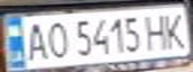1: (109, 15, 127, 54)
4: (90, 16, 112, 56)
5: (69, 16, 93, 57), (121, 12, 145, 53)
A: (21, 19, 51, 62)
H: (142, 10, 172, 52)
K: (160, 8, 193, 50)
O: (42, 18, 69, 60)
